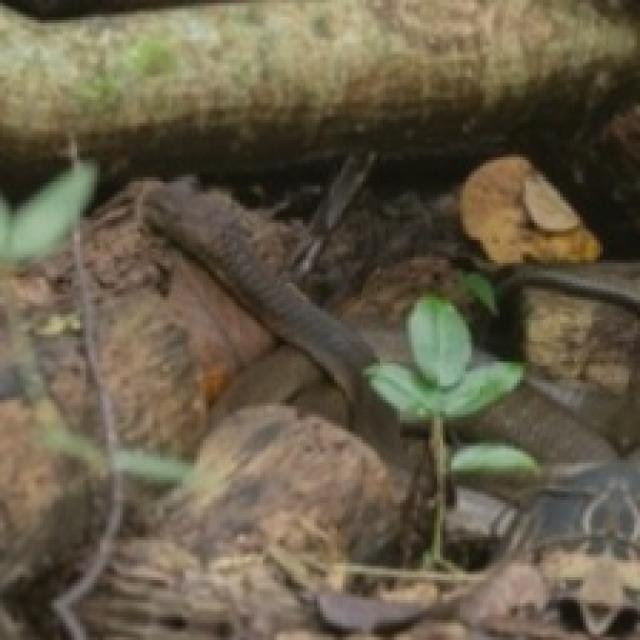king cobra: (134, 183, 623, 637), (143, 177, 400, 460), (409, 297, 520, 420), (371, 366, 414, 403), (431, 426, 443, 520)
